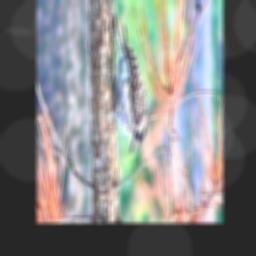Woodpecker: (100, 7, 153, 162)
